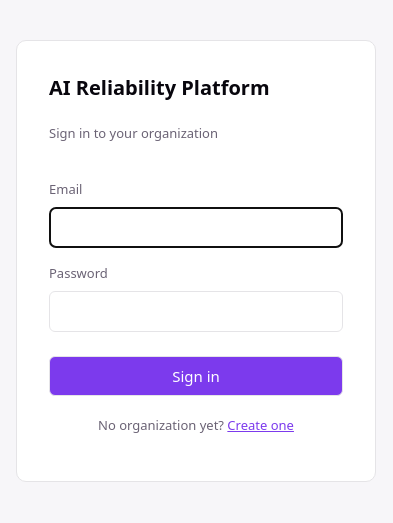
LoginPage › shows the server's error message on invalid credentials
Type "a@b.com" into the field labelled "Email".
click(196, 228); type("a@b.com")  # box [49,207,343,248]
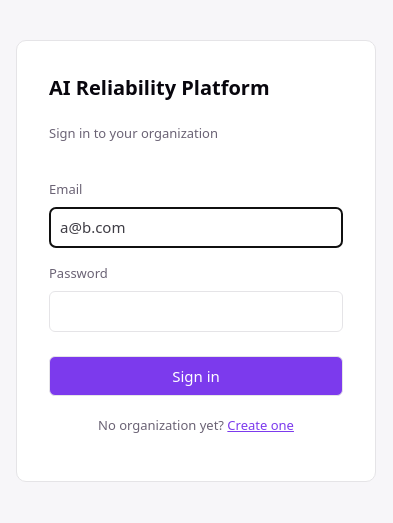
Type "wrong" into the password field labelled "Password".
click(196, 312); type("wrong")  # box [49,291,343,332]
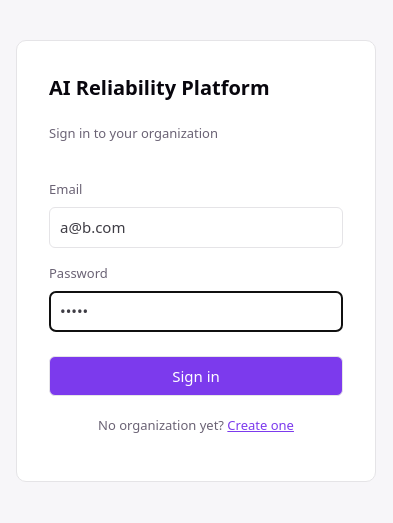
Click the button "Sign in".
click(196, 376)  # box [49,356,343,396]
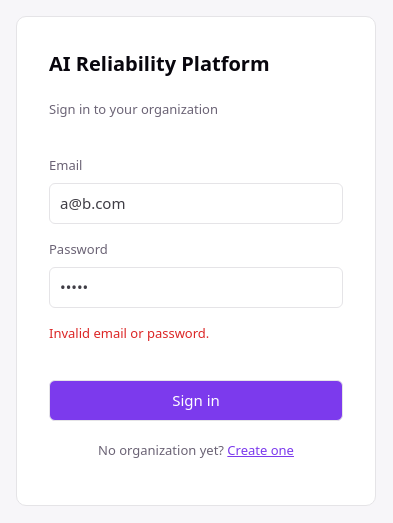
Expected: the text "Invalid email or password." is shown, [49,324,209,342]
